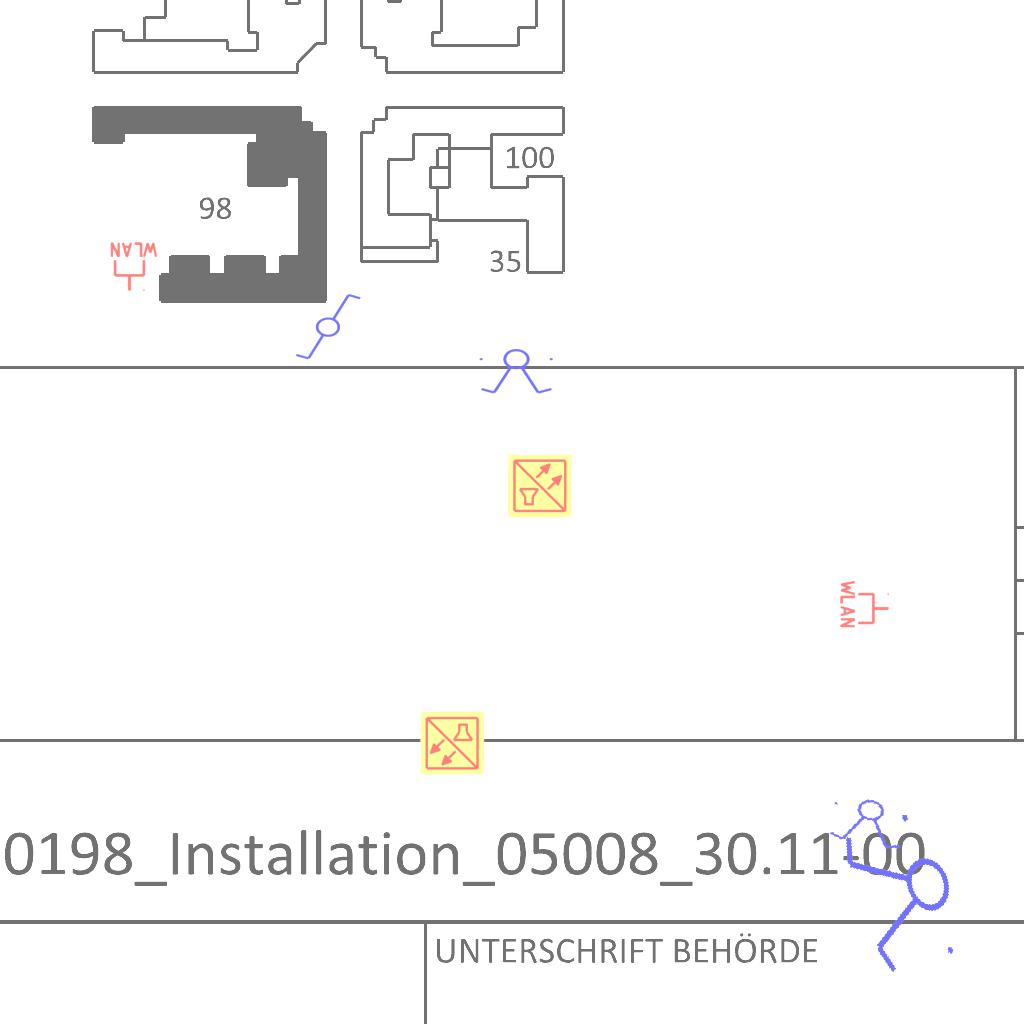OKW_Multisensormelder_(Kombination_optischer_Rauch-Kahlenmonoxid_Waerme-Melder): (419, 710, 485, 776), (507, 453, 573, 519)
Serienschalter: (831, 798, 977, 990), (823, 791, 915, 855), (475, 348, 559, 396)
WLAN: (108, 241, 160, 293), (839, 578, 891, 630)
Wechselschalter: (285, 290, 363, 362)
